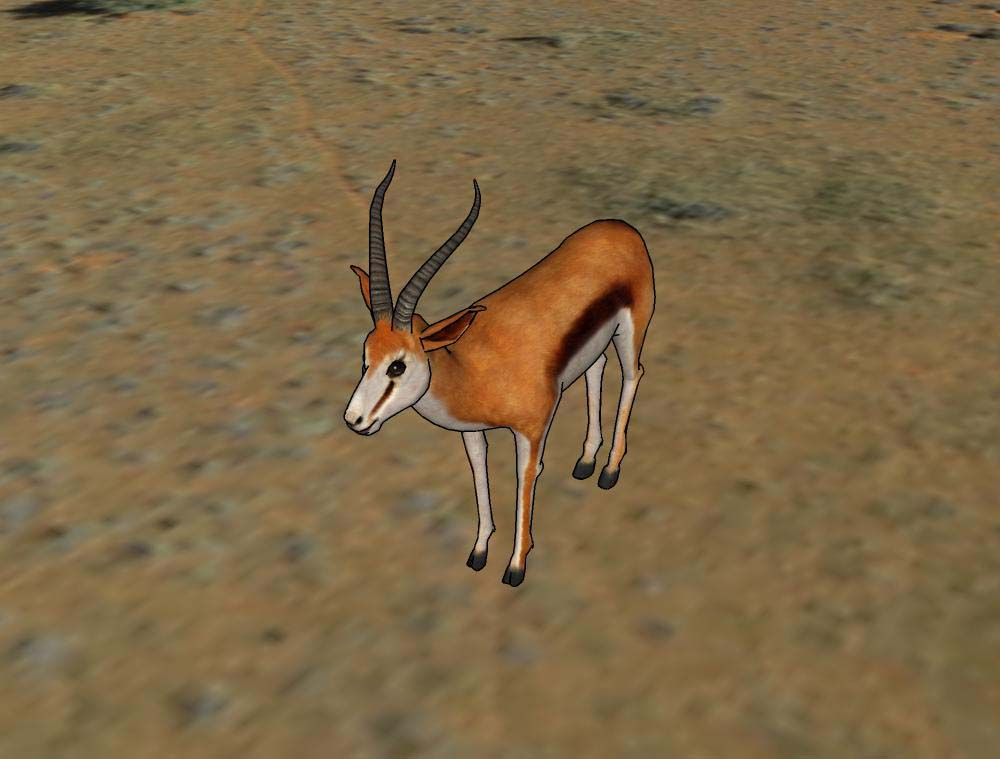springbok: (340, 153, 663, 592)
